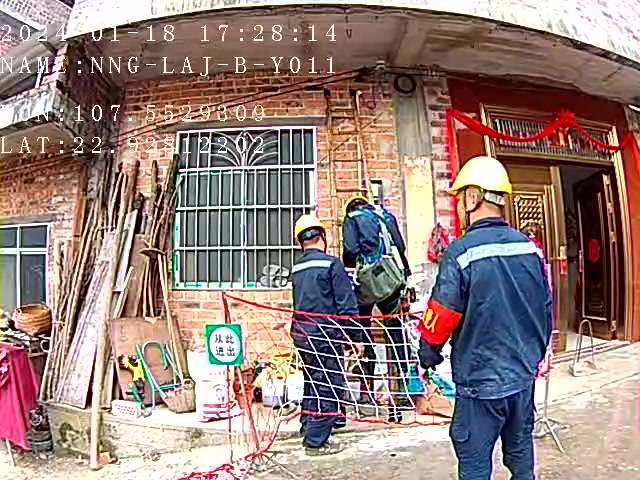badge: (421, 296, 464, 347)
downsuit: (449, 394, 542, 480), (293, 329, 353, 444), (357, 282, 408, 377)
halt: (449, 156, 514, 228), (294, 215, 329, 252), (344, 193, 372, 214)
hand: (417, 362, 437, 386)
inear: (463, 187, 481, 227)
intosign: (203, 320, 245, 369)
person: (420, 154, 558, 480), (286, 215, 361, 451), (341, 195, 412, 393)
safebelt: (355, 207, 398, 263)
upsuit: (418, 217, 557, 391), (288, 251, 360, 331), (341, 206, 409, 277)
